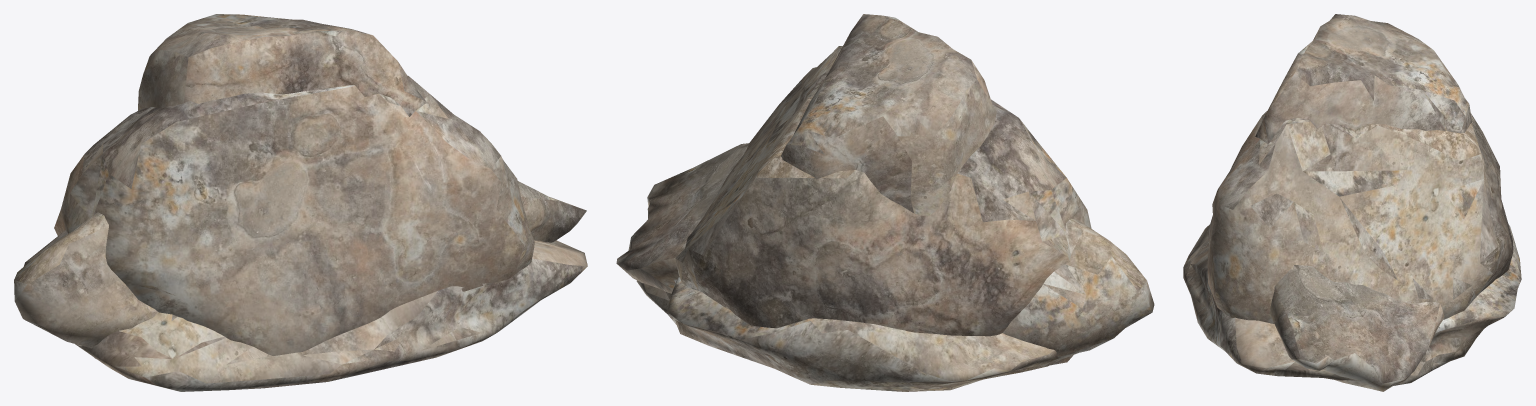
The model's file is coastal-assets.glb.
3 views of the same model, side by side, from view 1: azimuth 30°, elevation 25°; view 2: azimuth 150°, elevation 25°; view 3: azimuth 270°, elevation 25° (orthographic). The views are drawn at different scales.
Visible parts, largest first — view 1: Rock_01_Block, Rock_02_Slab, Rock_03_Fractured, Rock_05_Ridge; view 2: Rock_01_Block, Rock_03_Fractured, Rock_02_Slab, Rock_05_Ridge; view 3: Rock_01_Block, Rock_03_Fractured, Rock_05_Ridge, Rock_02_Slab.
Boxes of the visible parts, left/top/right/bottom form: Rock_01_Block: left=54, top=76, right=534, bottom=355; Rock_02_Slab: left=75, top=240, right=587, bottom=391; Rock_03_Fractured: left=138, top=14, right=426, bottom=116; Rock_05_Ridge: left=14, top=181, right=586, bottom=358; Rock_01_Block: left=675, top=46, right=1091, bottom=336; Rock_03_Fractured: left=781, top=14, right=996, bottom=216; Rock_02_Slab: left=636, top=277, right=1060, bottom=391; Rock_05_Ridge: left=616, top=143, right=1154, bottom=365; Rock_01_Block: left=1207, top=111, right=1513, bottom=323; Rock_03_Fractured: left=1255, top=14, right=1471, bottom=144; Rock_05_Ridge: left=1269, top=265, right=1444, bottom=391; Rock_02_Slab: left=1183, top=224, right=1521, bottom=385.
Bounding box in the file's own units: 2.47 × 1.3 × 1.56.
2 materials, 1 textured.
